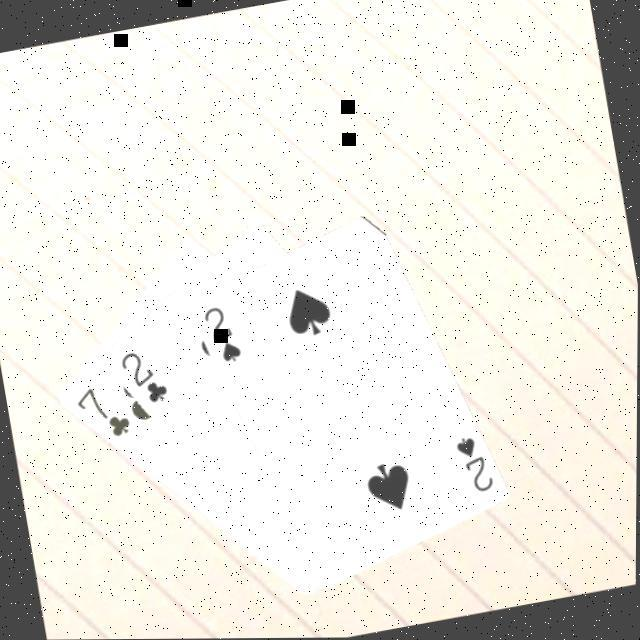2C: (116, 340, 174, 409)
2S: (199, 297, 248, 367), (452, 427, 500, 496)
7C: (71, 375, 137, 444)
